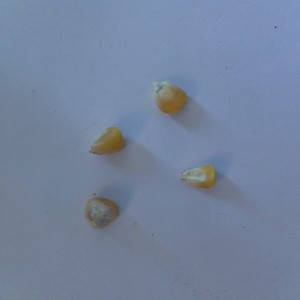maiz: (81, 189, 128, 233), (172, 158, 225, 195), (150, 77, 191, 116), (85, 125, 127, 158)
